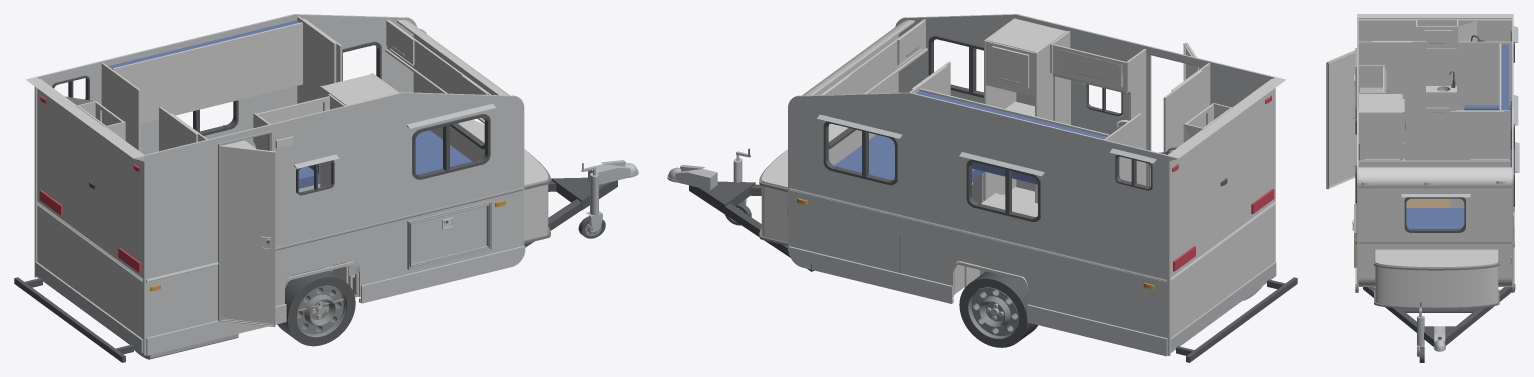
Rendered from INTERIOR GENERAL .glb.
3 renders of one model, left to right at view 1: azimuth 30°, elevation 25°; view 2: azimuth 150°, elevation 25°; view 3: azimuth 270°, elevation 25°, orthographic. The views are drawn at different scales.
Parts seen in each view (by area): view 1: Mesh_Mesh_head_geo.001_lambert2SG.001; view 2: Mesh_Mesh_head_geo.001_lambert2SG.001; view 3: Mesh_Mesh_head_geo.001_lambert2SG.001.
Boxes of the visible parts, <box> form: Mesh_Mesh_head_geo.001_lambert2SG.001: <box>14,14,638,362</box>; Mesh_Mesh_head_geo.001_lambert2SG.001: <box>667,14,1297,362</box>; Mesh_Mesh_head_geo.001_lambert2SG.001: <box>1326,14,1519,362</box>.
Bounding box in the file's own units: 0.312 × 0.122 × 0.126.
